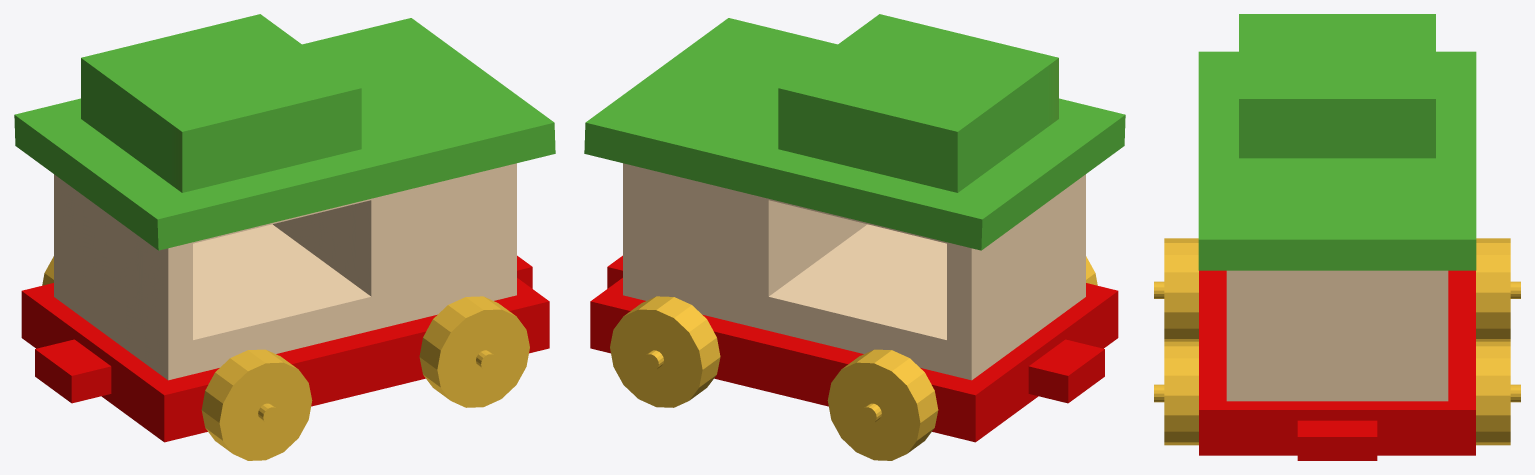
The model's file is Prop_ToyTrain_03.fbx.
3 renders of one model, left to right at view 1: azimuth 30°, elevation 25°; view 2: azimuth 150°, elevation 25°; view 3: azimuth 270°, elevation 25°, orthographic. The views are drawn at different scales.
Visible parts, largest first — view 1: Prop_ToyTrain_03; view 2: Prop_ToyTrain_03; view 3: Prop_ToyTrain_03.
Part boxes in pixels (box(x1,y1,x2,y2)): Prop_ToyTrain_03: box(14, 14, 555, 460); Prop_ToyTrain_03: box(584, 14, 1125, 460); Prop_ToyTrain_03: box(1154, 14, 1520, 460).
Size of the model in its own units: 37.61 by 24.37 by 26.82.
